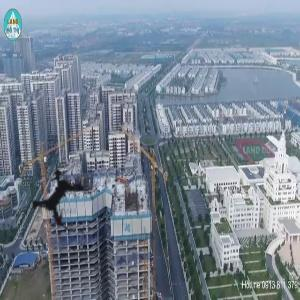drone: (2, 136, 122, 256)
